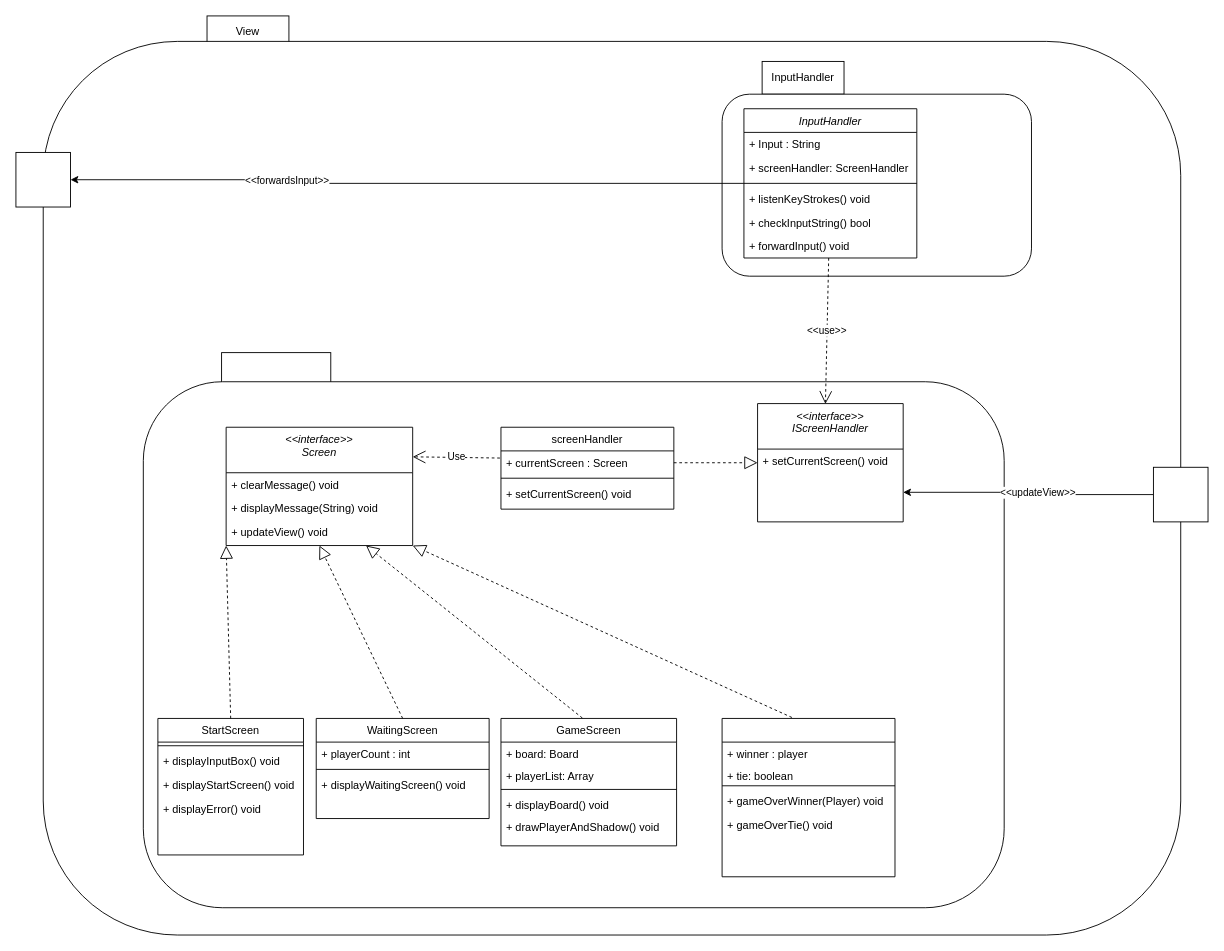
Some shapes in this 1224 by 951 pixel diagram are drawn without their labels. Here are the shapes that lost their labels. From the top down, the box of each, then its label:
(15, 152, 71, 207): controller
(221, 352, 331, 389): Screens
(1153, 466, 1208, 522): Modell
(721, 718, 895, 877): EndScreen
